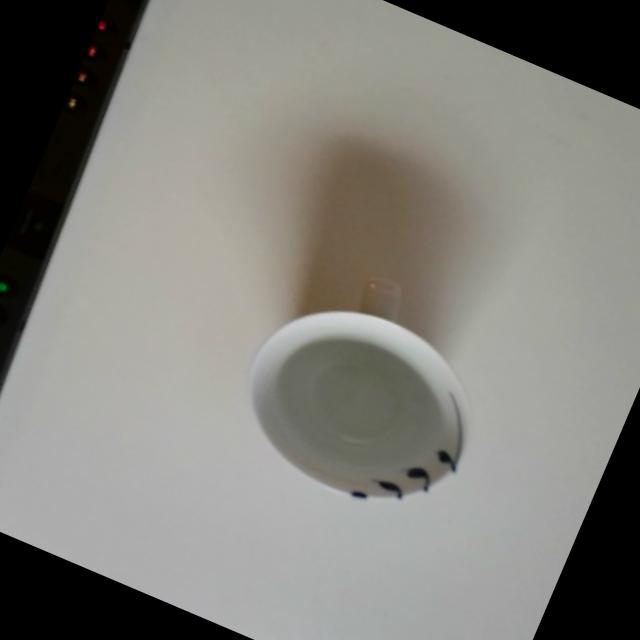Hand painted cup: (209, 233, 521, 538)
